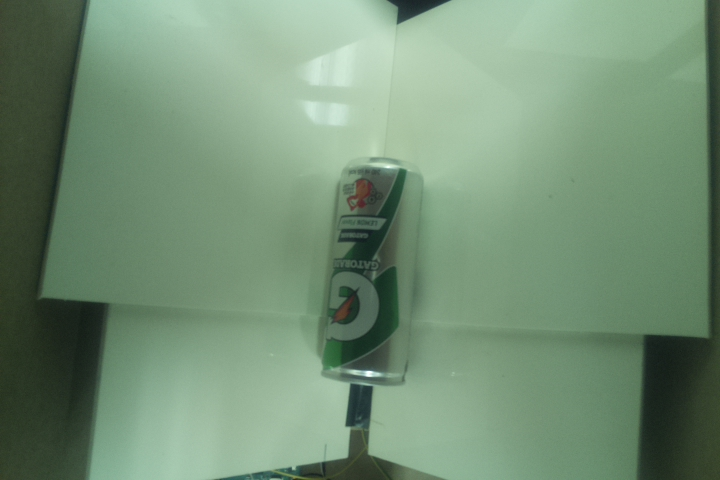can: (317, 154, 428, 386)
